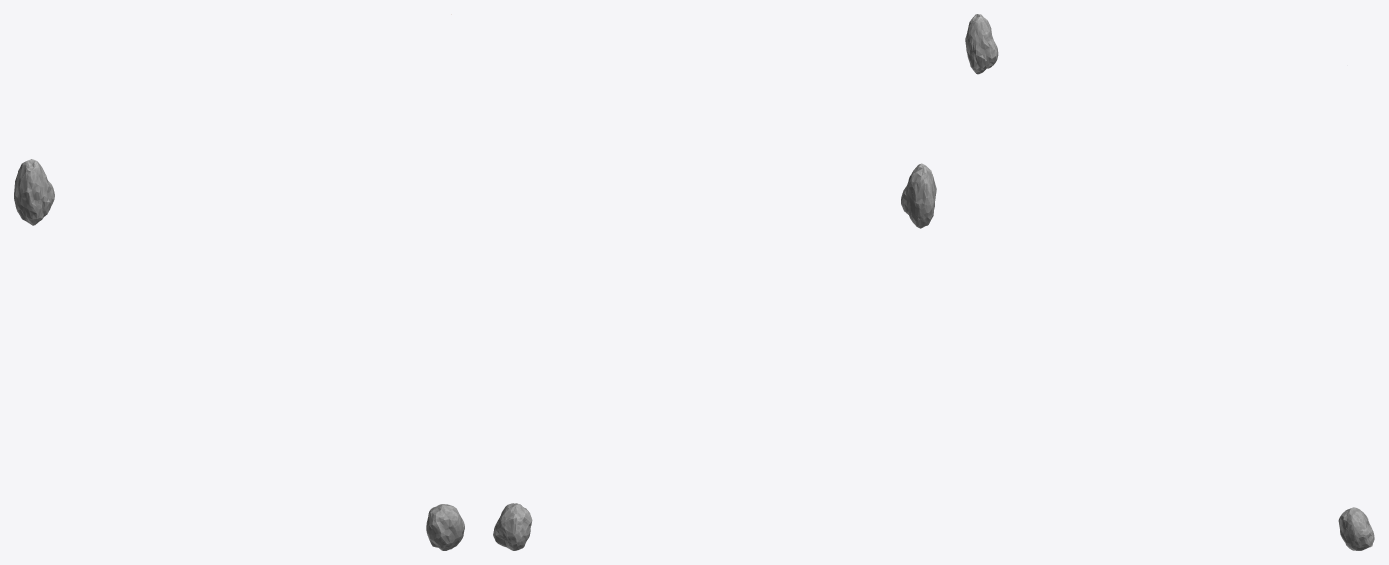
File: playerWithstarterStone.glb
The picture shows the model from 3 angles, left to right: view 1: azimuth 30°, elevation 25°; view 2: azimuth 150°, elevation 25°; view 3: azimuth 330°, elevation 25°; orthographic projection. The views are drawn at different scales.
Parts seen in each view (by area): view 1: R1, R4.001; view 2: R1, R4.001; view 3: R1, R4.001.
Part boxes in pixels (x1,y1,x2,y2): R1: (14, 159, 54, 225); R4.001: (426, 504, 464, 550); R1: (901, 163, 936, 228); R4.001: (493, 503, 532, 550); R1: (965, 14, 998, 74); R4.001: (1338, 507, 1374, 550).
Bounding box in the file's own units: 2149 × 2484 × 154.
Materials: 8 (3 with a texture image).
